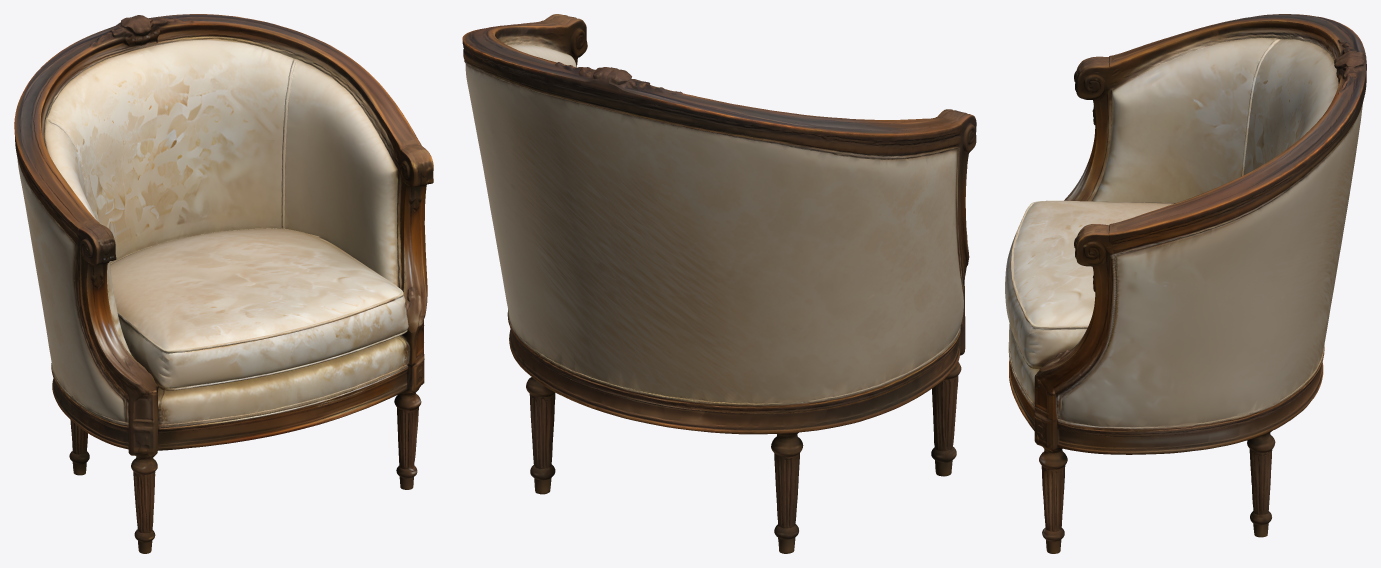
The model's file is polstersessel.glb.
3 renders of one model, left to right at view 1: azimuth 30°, elevation 25°; view 2: azimuth 150°, elevation 25°; view 3: azimuth 270°, elevation 25°, orthographic. The views are drawn at different scales.
Visible parts, largest first — view 1: Object_3, Object_4, Object_5, Object_2; view 2: Object_3, Object_4, Object_5; view 3: Object_3, Object_4, Object_5, Object_2.
Part boxes in pixels (bbox=[...]): Object_3: bbox=[14, 16, 427, 455]; Object_4: bbox=[41, 14, 433, 553]; Object_5: bbox=[22, 67, 148, 454]; Object_2: bbox=[14, 18, 433, 542]; Object_3: bbox=[462, 20, 976, 494]; Object_4: bbox=[463, 14, 966, 553]; Object_5: bbox=[517, 89, 969, 433]; Object_3: bbox=[1005, 14, 1365, 537]; Object_4: bbox=[1007, 20, 1366, 553]; Object_5: bbox=[1065, 15, 1349, 369]; Object_2: bbox=[1009, 17, 1364, 541].
Size of the model in its own units: 1.67 by 1.8 by 1.38.
1 material, 1 textured.
